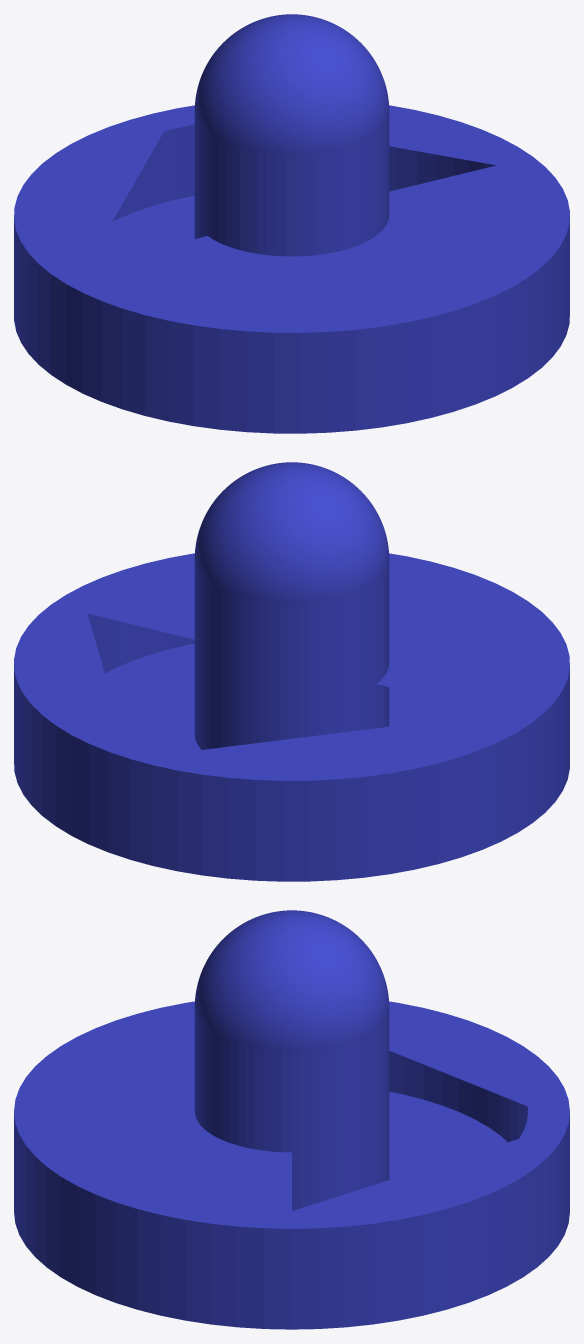
File: Mallet_2P.fbx
The picture shows the model from 3 angles, top to bottom: view 1: azimuth 30°, elevation 25°; view 2: azimuth 150°, elevation 25°; view 3: azimuth 270°, elevation 25°; orthographic projection.
Visible parts, largest first — view 1: Cylinder, Sphere; view 2: Cylinder, Sphere; view 3: Cylinder, Sphere.
Part boxes in pixels (bbox=[...]): Cylinder: bbox=[14, 105, 569, 433]; Sphere: bbox=[194, 14, 389, 156]; Cylinder: bbox=[14, 553, 569, 881]; Sphere: bbox=[194, 462, 389, 604]; Cylinder: bbox=[14, 1001, 569, 1329]; Sphere: bbox=[194, 910, 389, 1052].
Size of the model in its own units: 200 by 116 by 200.
